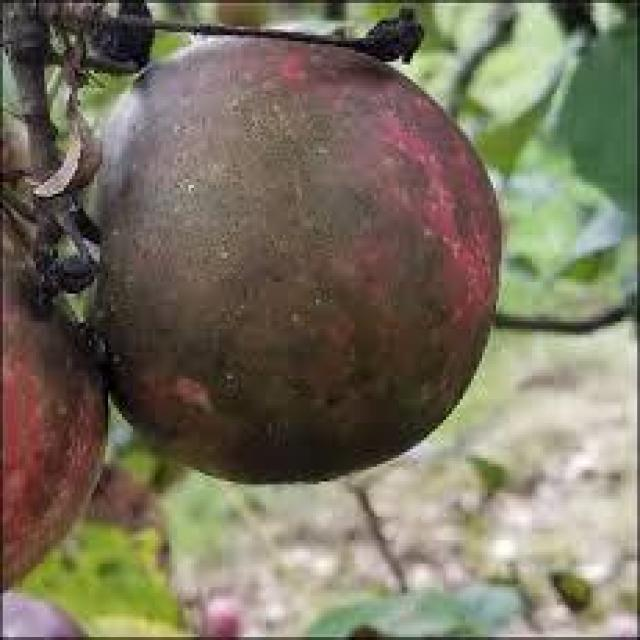Rotten: (71, 36, 510, 486)
